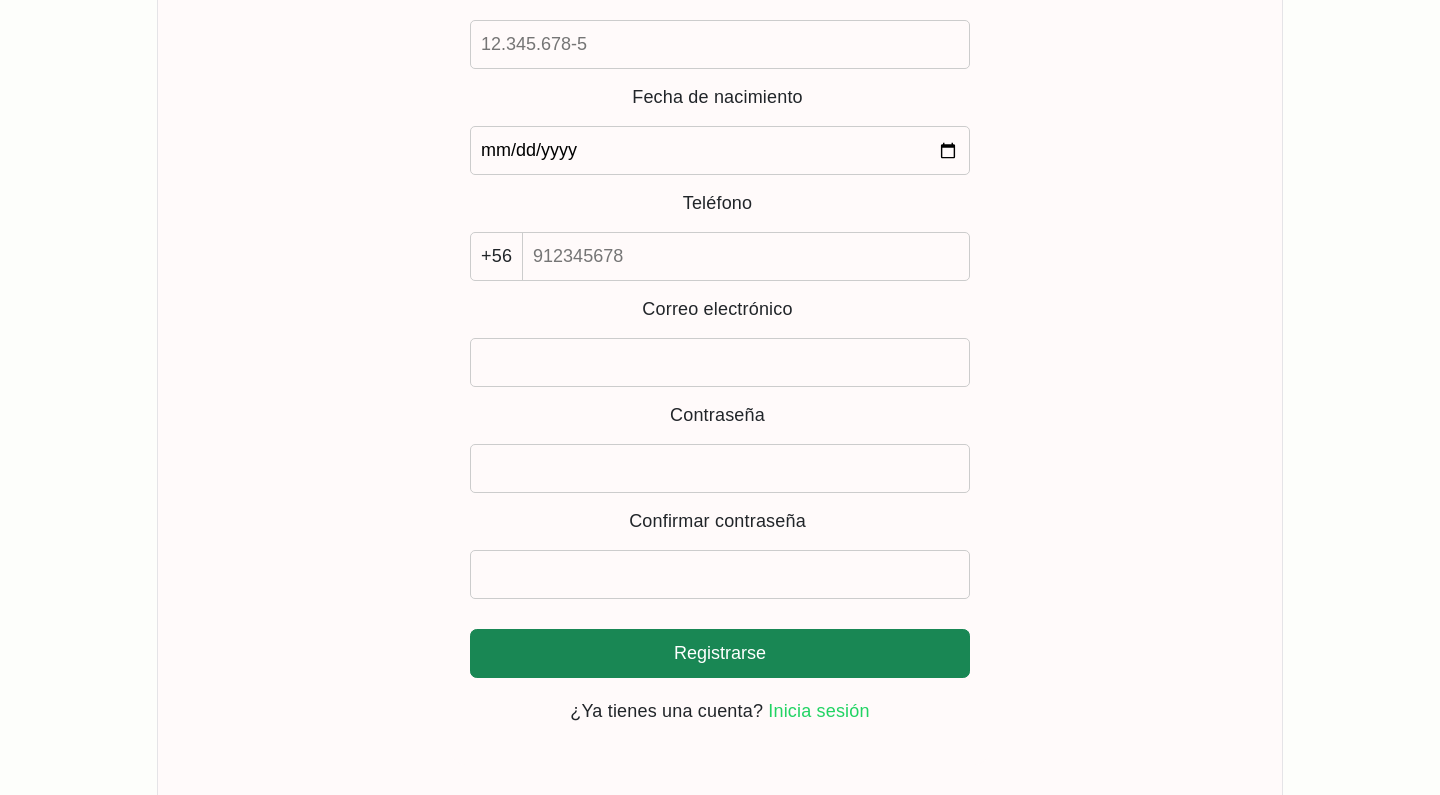
it: Pruebas unitarias del registro NutriVida › 2. Valida que todos los campos sean obligatorios
(page scrolled)
Click the button "Registrarse" at {"x": 720, "y": 654}, box [470, 629, 970, 678]
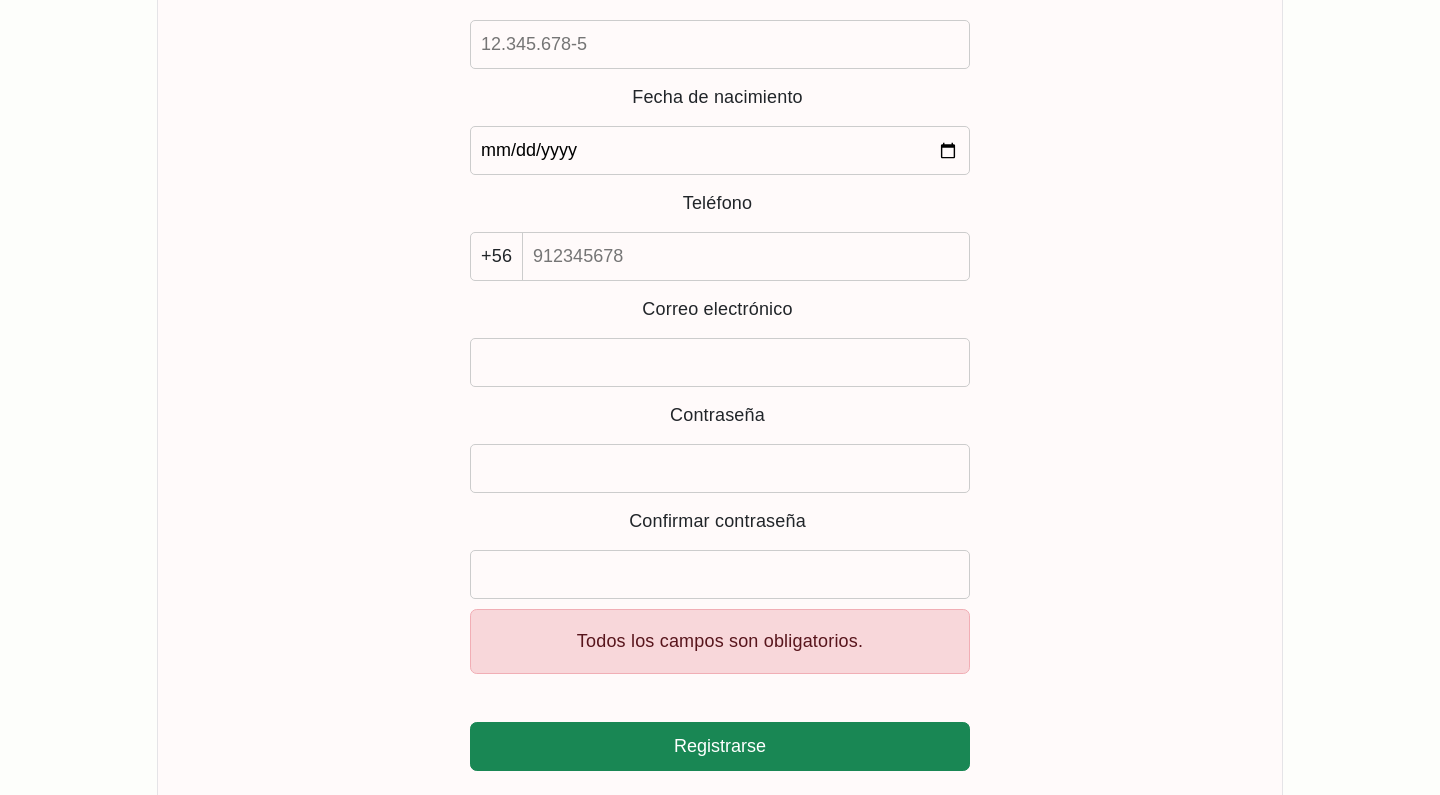
Expected: the message reads "Todos los campos son obligatorios.", [577, 631, 863, 651]
